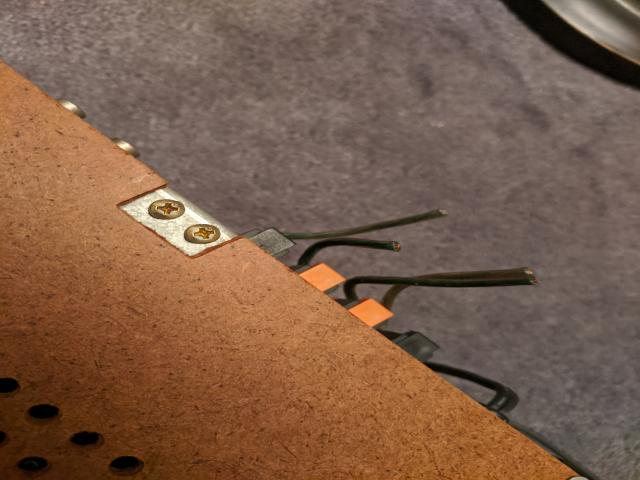CRS: (148, 198, 186, 220), (184, 224, 222, 243)
